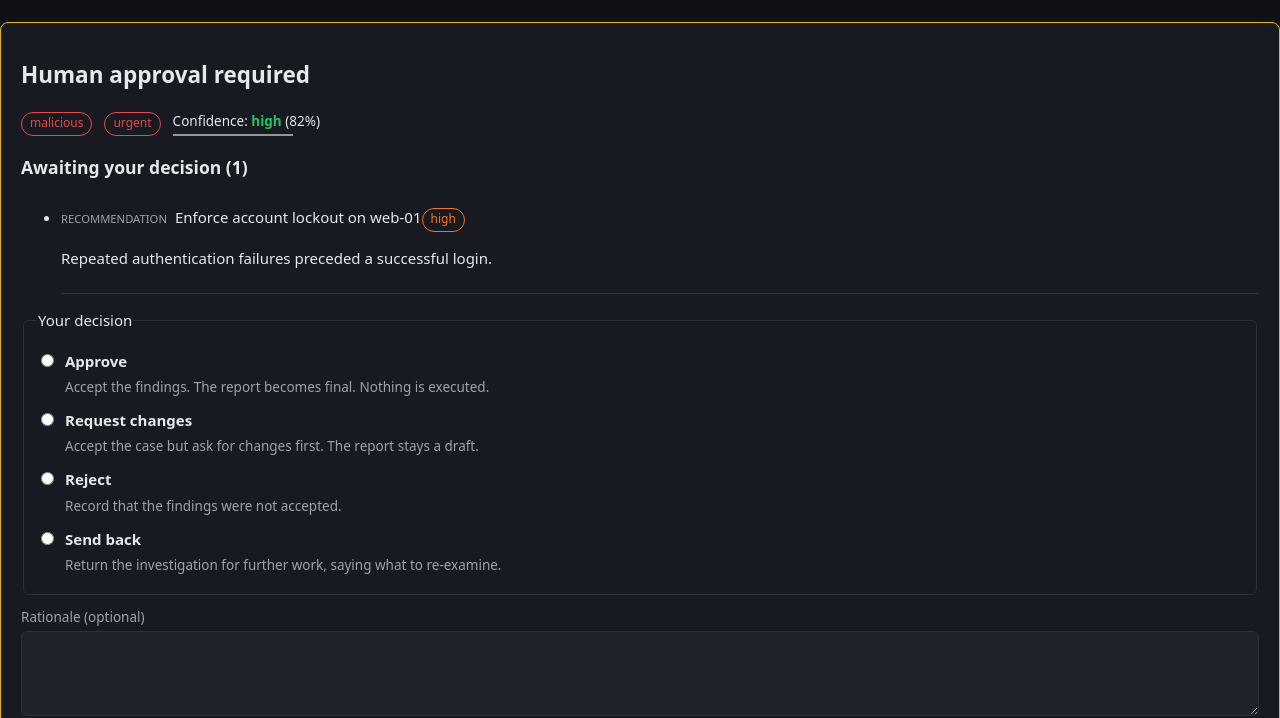
Test: what the analyst may do › requires a reason for reject
This screenshot has width=1280, height=718.
Click the radio button labelled "Reject Record that the findings were not accepted." at (48, 479), box [41, 472, 54, 485]
(page scrolled)
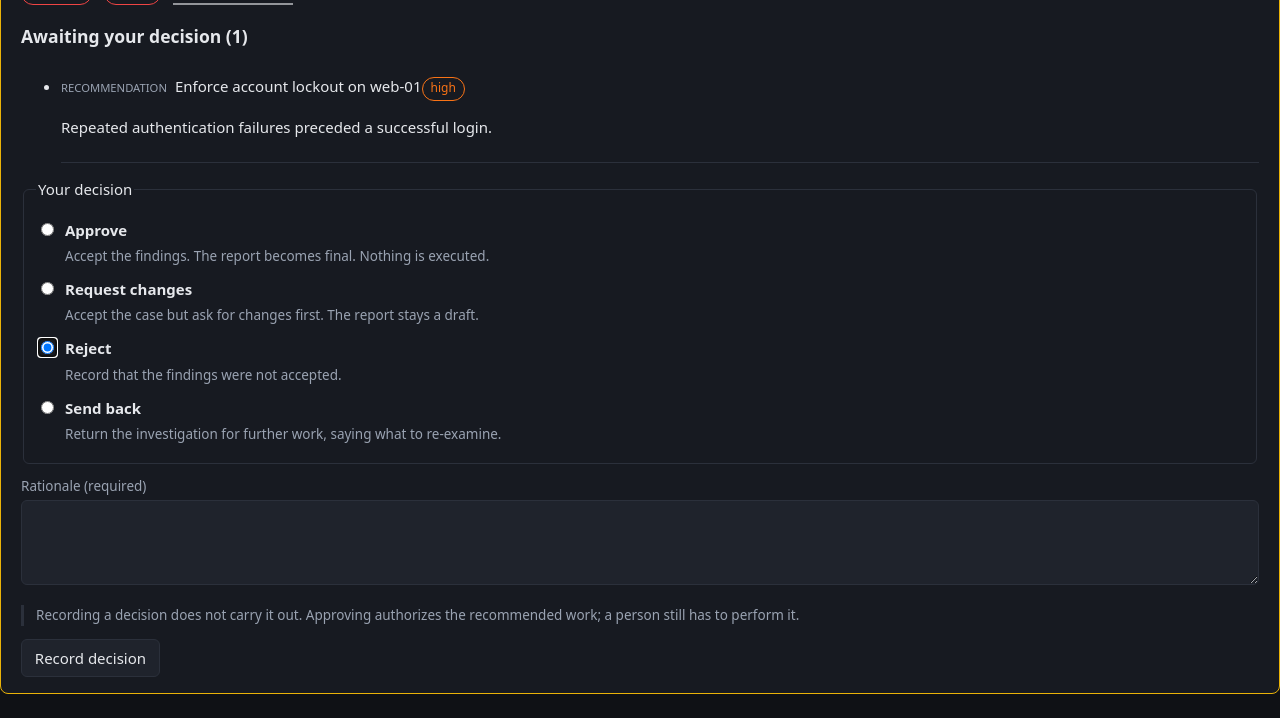
Click the button "Record decision" at (90, 658), box [21, 639, 160, 677]
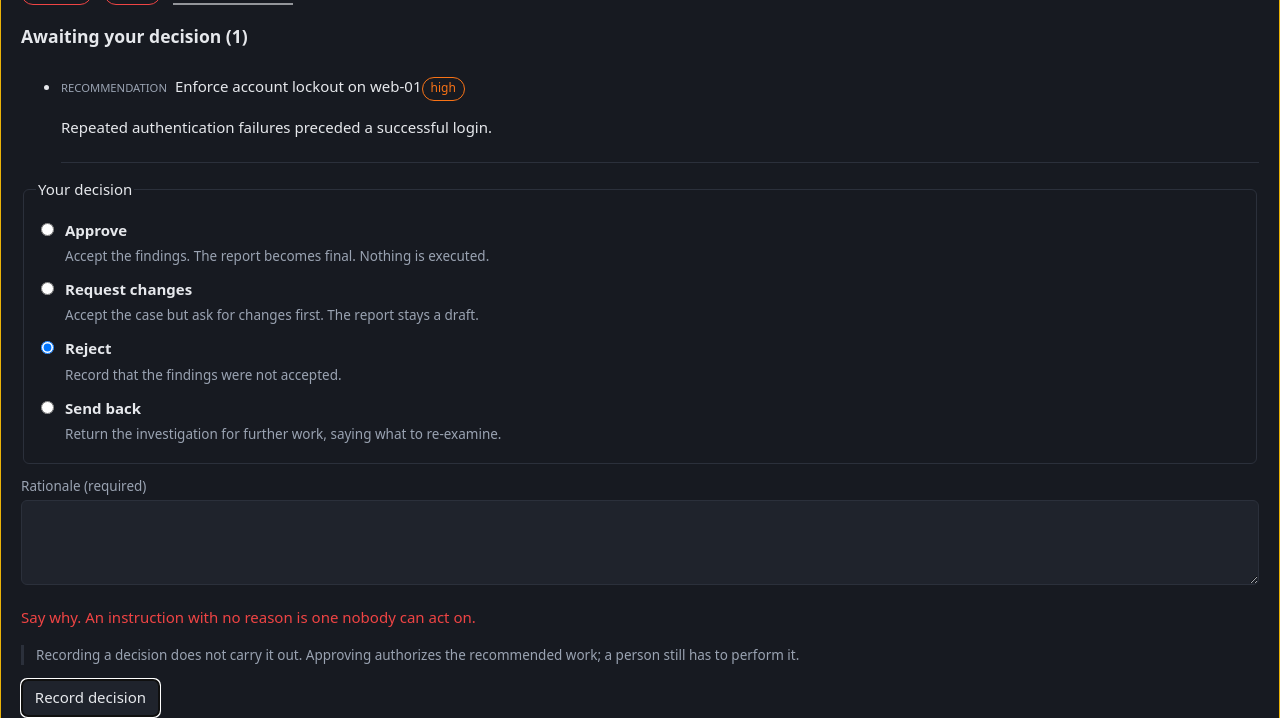
Expected: the message shows "Say why", [21, 607, 476, 627]
